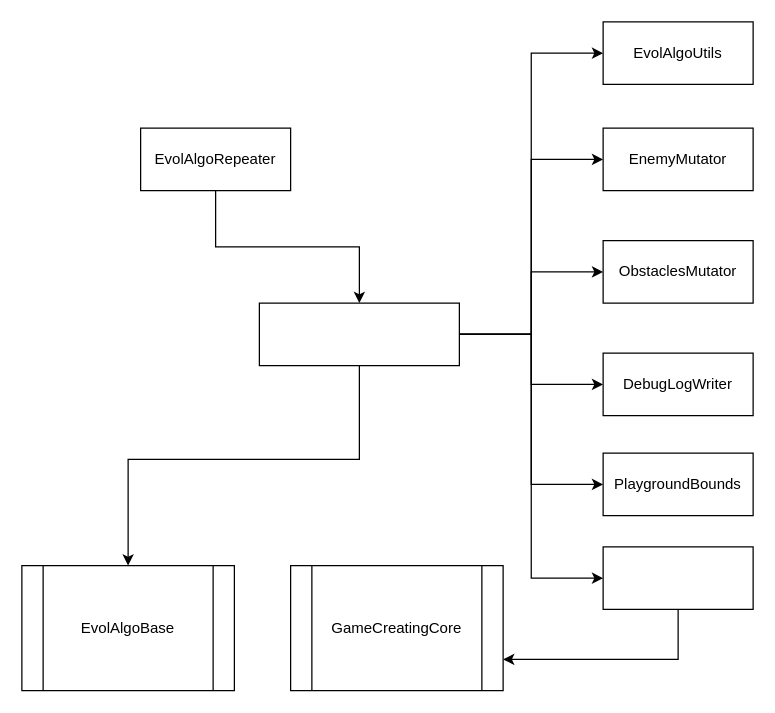
Image size: 775x713. Some labels were removed from this diagram. The shapes that lost their labels are listed below. From the top down, each one's box as (x1, y1, x2, y2) in pixels, then its label:
(258, 302, 459, 366): EvolAlgoLevelGenerator
(602, 546, 753, 609): LevelTester
